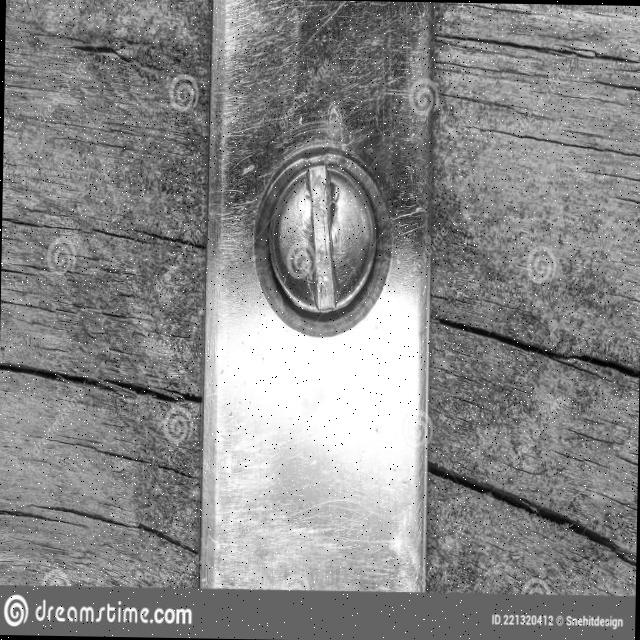Slotted: (240, 140, 410, 348)
